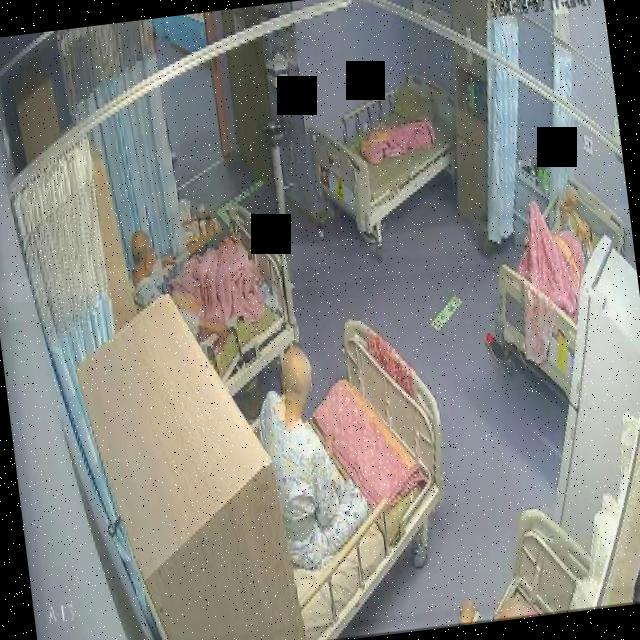bed: (234, 314, 466, 640), (478, 173, 640, 403), (148, 205, 302, 402), (306, 65, 466, 239)
lie: (516, 177, 598, 286)
patient: (244, 336, 362, 574), (123, 222, 220, 361), (556, 180, 596, 258)
sit: (244, 336, 362, 571), (122, 216, 258, 361)
